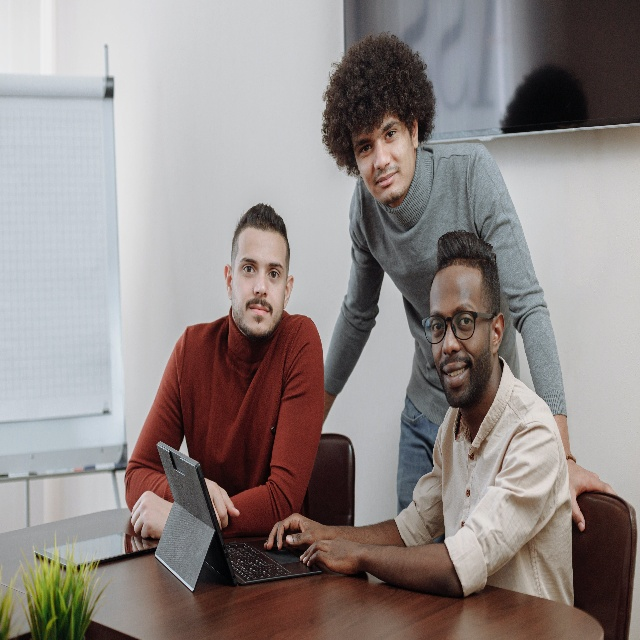Gafas: (421, 309, 497, 344)
Sin_guantes: (566, 453, 621, 534), (263, 512, 333, 553), (298, 535, 365, 574), (130, 489, 171, 541), (203, 475, 240, 532)
